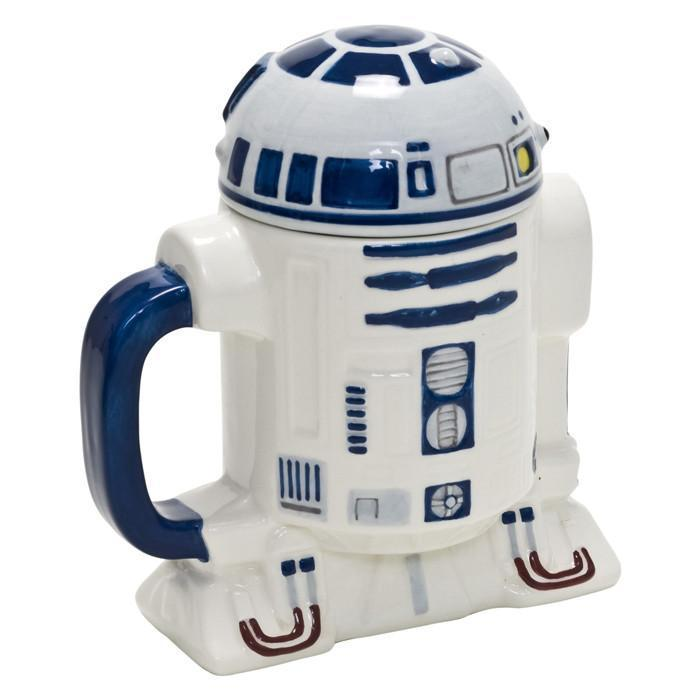r2d2: (79, 24, 622, 675)
